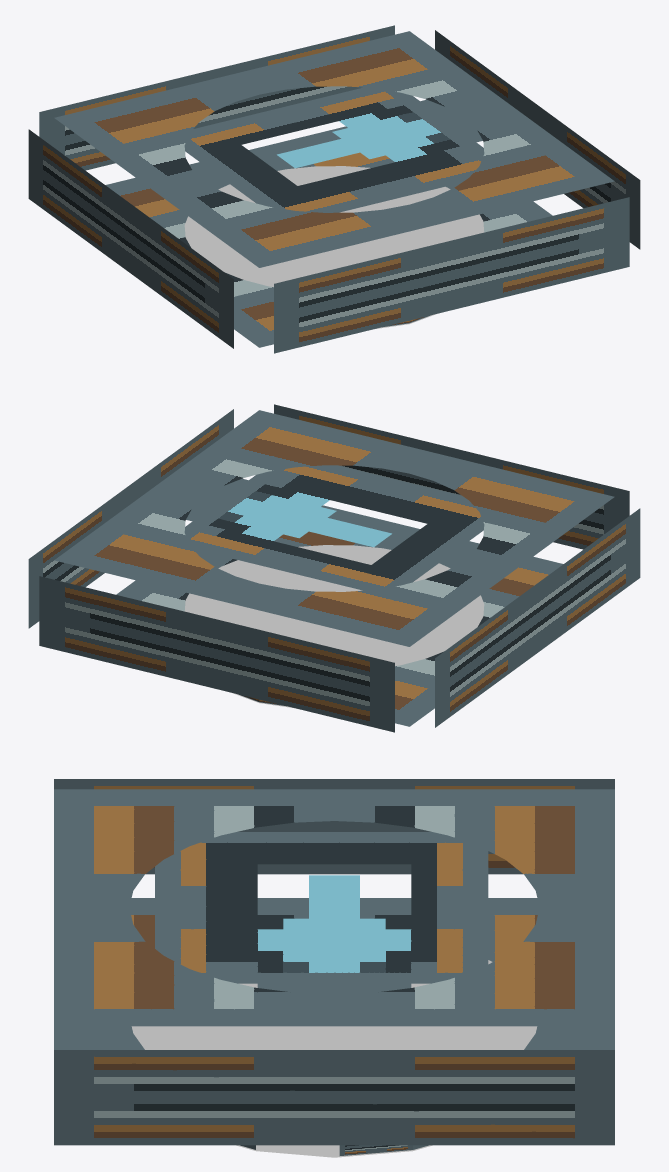
File: exhaust_up.obj
3 views of the same model, one above another, from view 1: azimuth 30°, elevation 25°; view 2: azimuth 150°, elevation 25°; view 3: azimuth 270°, elevation 25° (orthographic). The views are drawn at different scales.
Visible parts, largest first — view 1: exhaust_up; view 2: exhaust_up; view 3: exhaust_up.
Boxes of the visible parts, x1,y1,x2,y2 form: exhaust_up: [28, 25, 640, 353]; exhaust_up: [28, 404, 640, 732]; exhaust_up: [54, 779, 614, 1157].
Bounding box in the file's own units: 1 × 0.2812 × 1.
